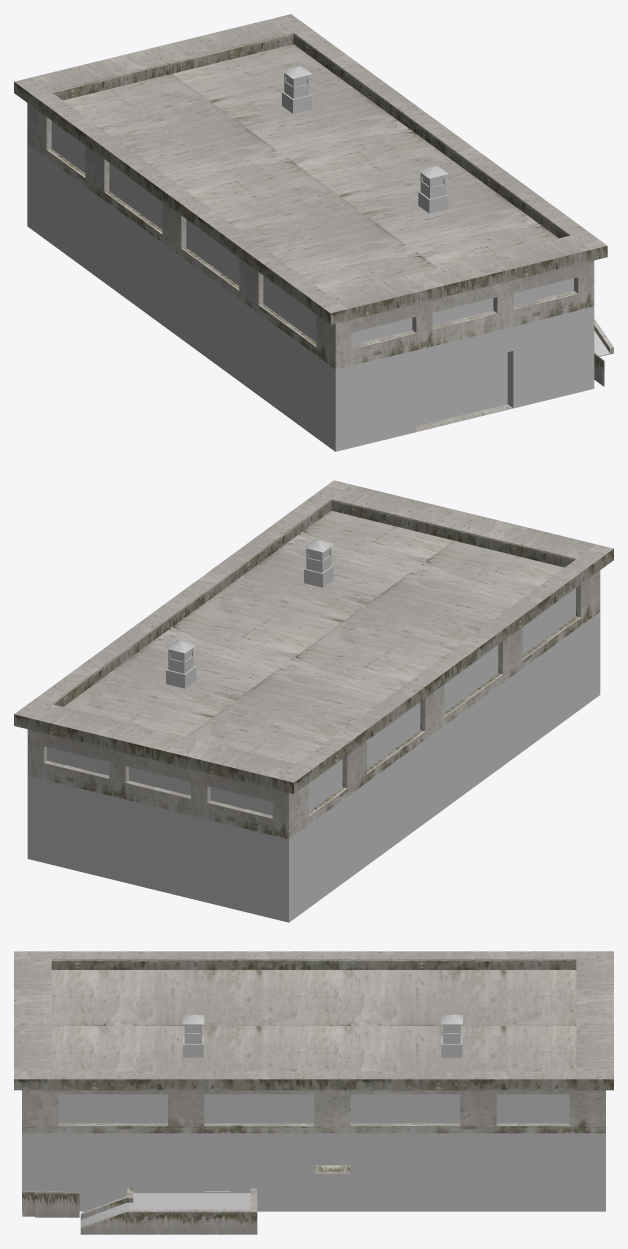
File: ind4_hall5_LOD2.fbx
3 renders of one model, top to bottom at view 1: azimuth 30°, elevation 25°; view 2: azimuth 150°, elevation 25°; view 3: azimuth 270°, elevation 25°, orthographic. The views are drawn at different scales.
Parts seen in each view (by area): view 1: Mesh Object; view 2: Mesh Object; view 3: Mesh Object.
Part boxes in pixels (bbox=[...]): Mesh Object: bbox=[14, 14, 613, 451]; Mesh Object: bbox=[14, 480, 613, 922]; Mesh Object: bbox=[14, 951, 613, 1234].
Size of the model in its own units: 20.23 by 10.53 by 34.81.
